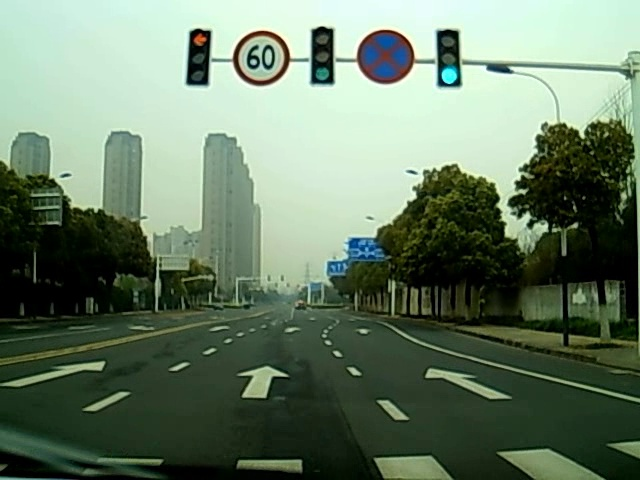Traffic_Light_go: (309, 27, 333, 86), (437, 32, 461, 90)
Traffic_Light_stop: (187, 30, 208, 85)
